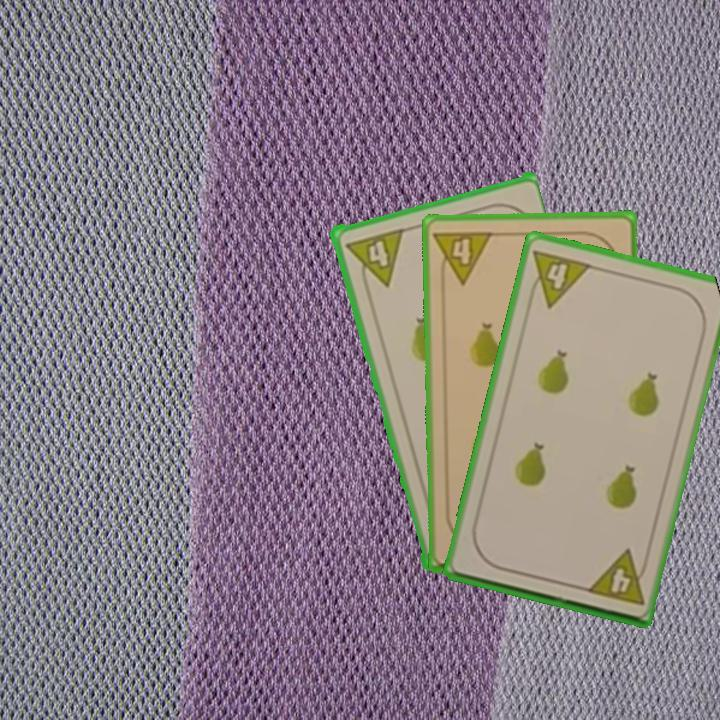4p: (523, 245, 594, 311), (341, 225, 406, 293), (582, 546, 652, 608), (430, 227, 495, 287)
